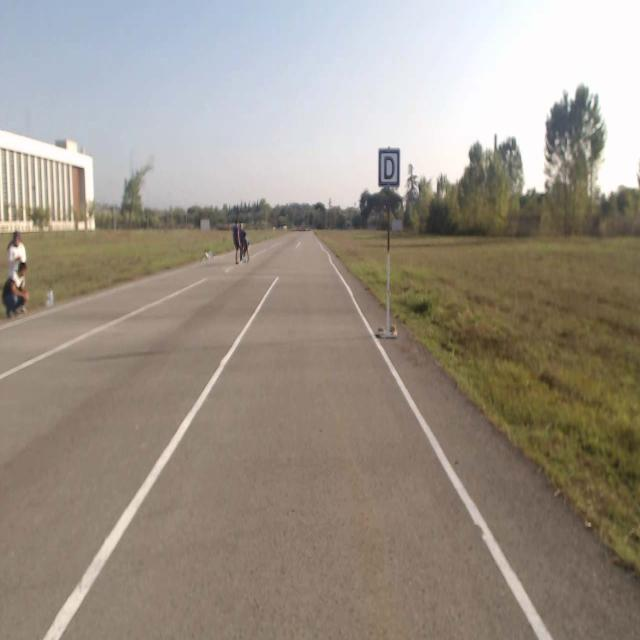durak: (378, 149, 400, 186)
